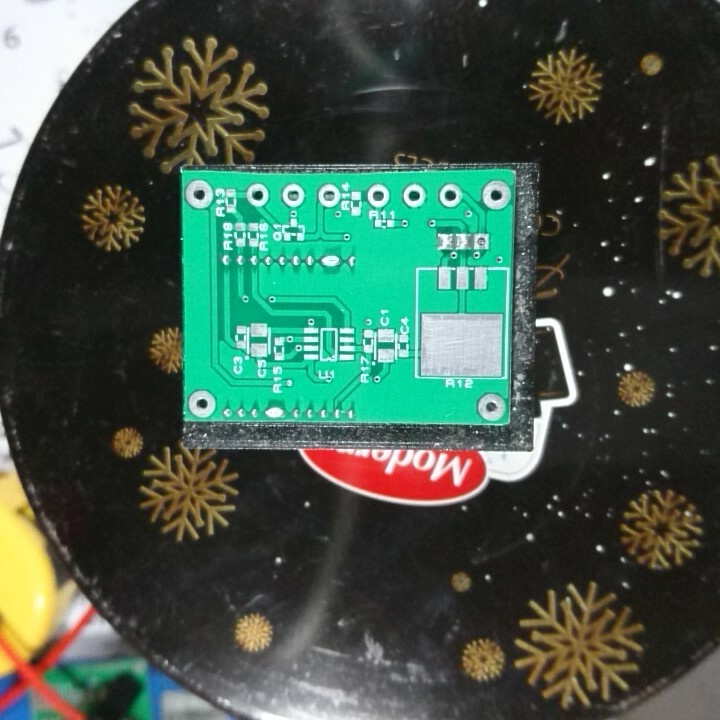F: (181, 175, 217, 215), (475, 390, 510, 425), (479, 180, 513, 214), (185, 389, 219, 420), (399, 181, 429, 214), (316, 179, 342, 214), (244, 180, 275, 209), (437, 180, 464, 211), (366, 182, 394, 211), (279, 182, 307, 209), (472, 231, 492, 255)
P: (319, 251, 344, 273), (261, 403, 288, 418)
